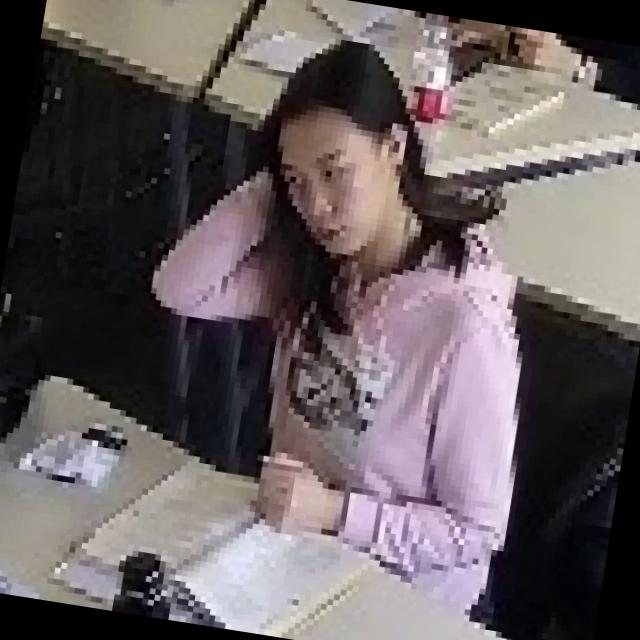listen: (92, 23, 586, 627)
